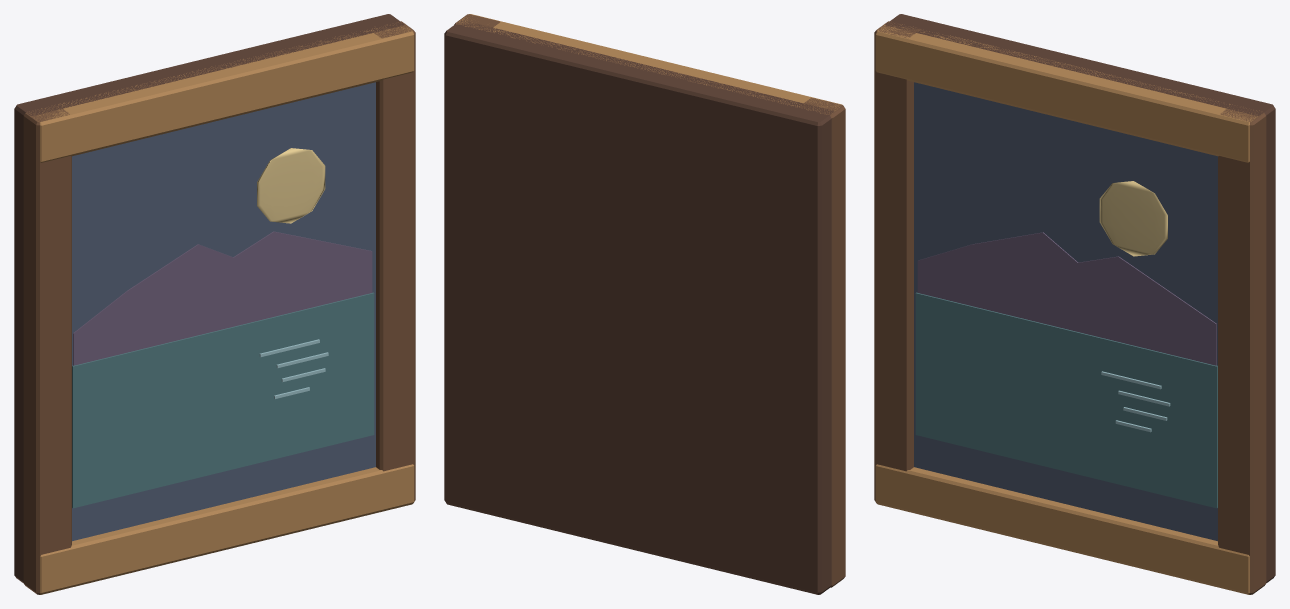
The model's file is picture_frame_small.glb.
3 renders of one model, left to right at view 1: azimuth 30°, elevation 25°; view 2: azimuth 150°, elevation 25°; view 3: azimuth 330°, elevation 25°, orthographic.
Parts seen in each view (by area): view 1: picture_frame_small; view 2: picture_frame_small; view 3: picture_frame_small.
Part boxes in pixels (x1=…): picture_frame_small: x1=14, y1=14, x2=415, y2=594; picture_frame_small: x1=444, y1=14, x2=845, y2=594; picture_frame_small: x1=874, y1=14, x2=1275, y2=594.
Bounding box in the file's own units: 0.42 × 0.5 × 0.05.
